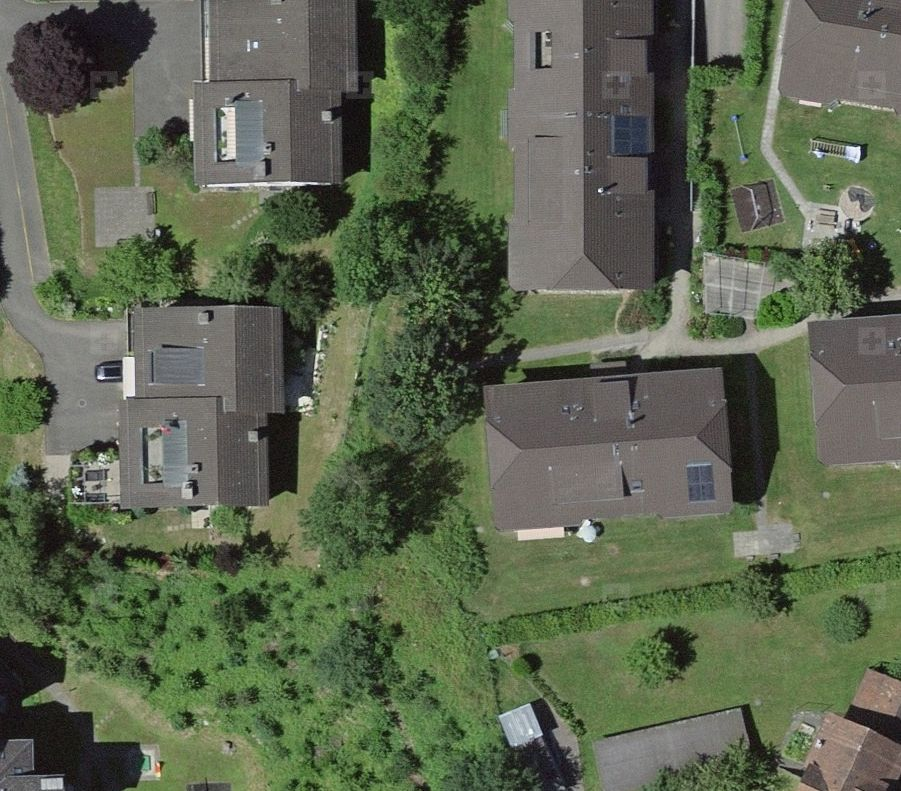solar: (600, 108, 658, 163), (674, 451, 725, 510)
